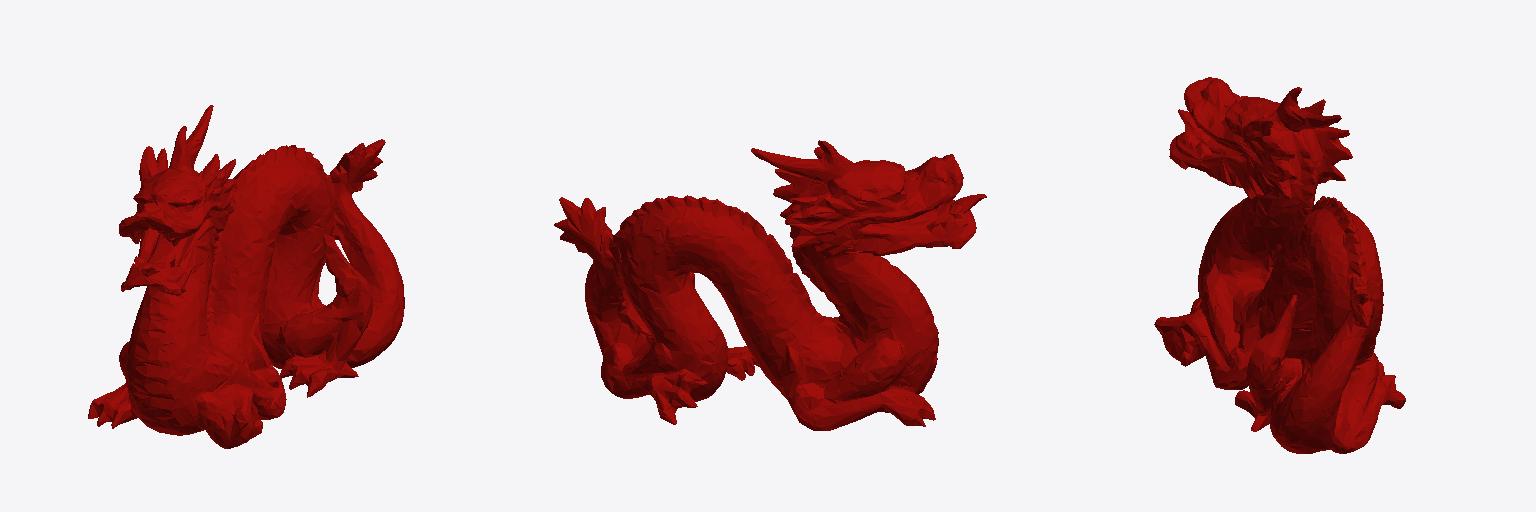
File: dragon19k_rot109.obj
The picture shows the model from 3 angles: view 1: azimuth 30°, elevation 25°; view 2: azimuth 150°, elevation 25°; view 3: azimuth 270°, elevation 25°; orthographic projection.
Visible parts, largest first — view 1: dragon; view 2: dragon; view 3: dragon.
Boxes of the visible parts, x1=… form: dragon: x1=88, y1=105, x2=404, y2=448; dragon: x1=554, y1=140, x2=986, y2=430; dragon: x1=1154, y1=77, x2=1405, y2=453.
Size of the model in its own units: 0.9084 by 0.7044 by 0.5821.